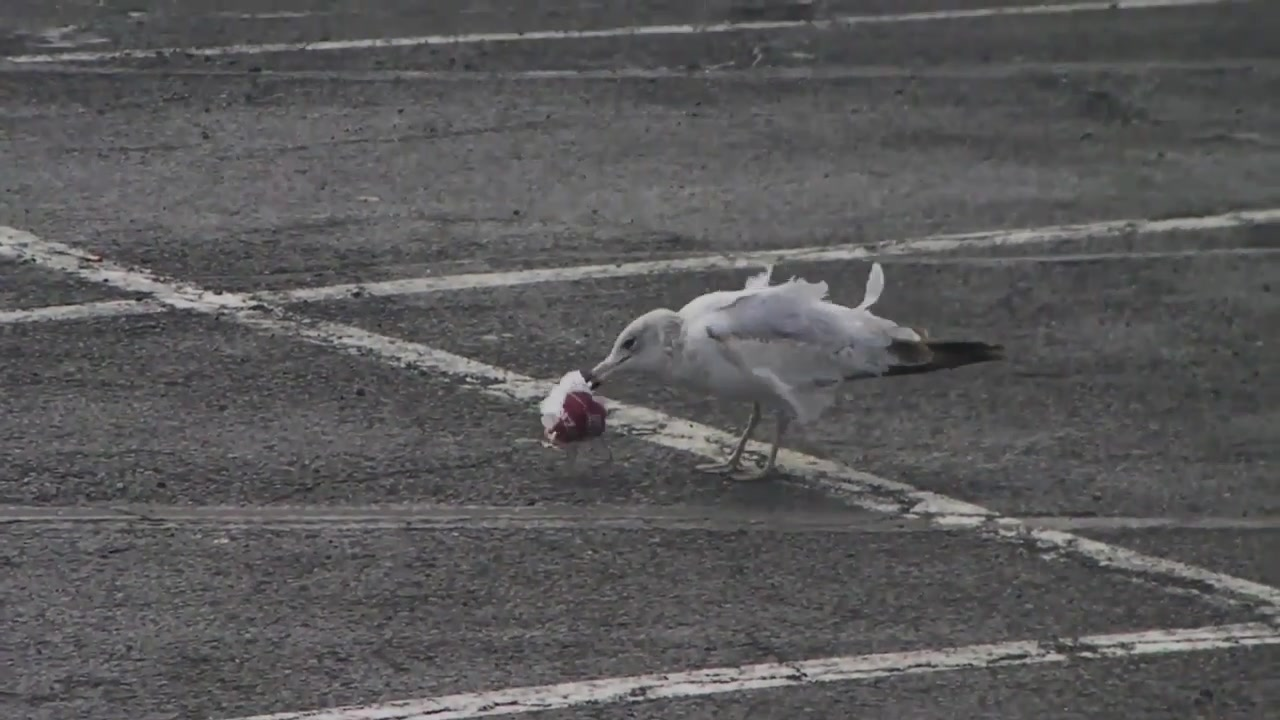bird: (592, 267, 1007, 485)
